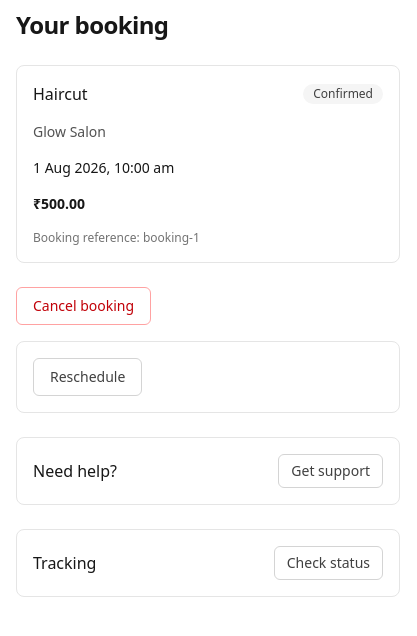
BookingStatusPage › requests support and displays the real returned contact info
The width and height of the screenshot is (417, 636).
Click the button "Get support" at (331, 471), box [278,454,383,488]
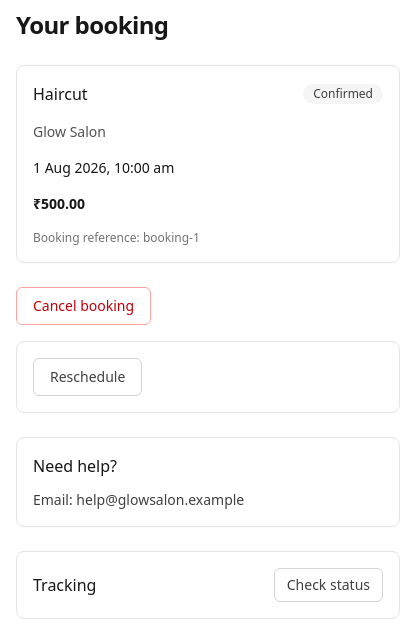
Expected: the text "Email: help@glowsalon.example" is shown, [33,490,244,509]
